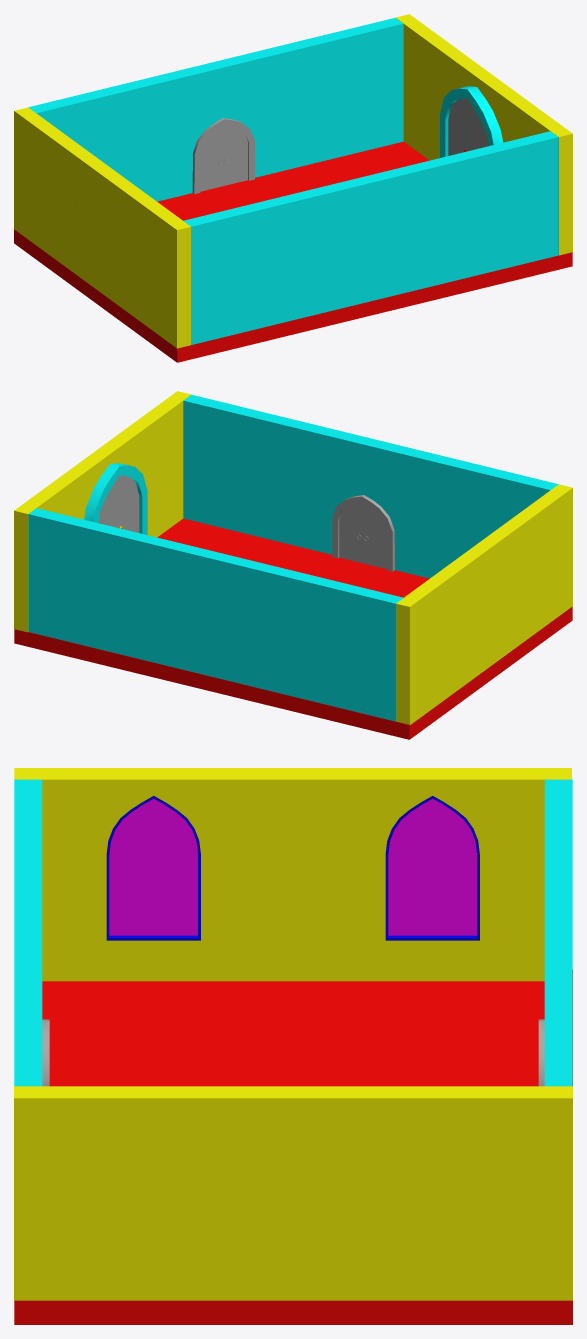
The model's file is entireroom.fbx.
The picture shows the model from 3 angles, top to bottom: view 1: azimuth 30°, elevation 25°; view 2: azimuth 150°, elevation 25°; view 3: azimuth 270°, elevation 25°; orthographic projection. The views are drawn at different scales.
Visible parts, largest first — view 1: polySurface5, polySurface7, polySurface8, polySurface1, polySurface3, door2, door1; view 2: polySurface7, polySurface5, polySurface8, polySurface1, polySurface3, door3, door1; view 3: polySurface3, polySurface8, polySurface1, polySurface5, polySurface7.
Boxes of the visible parts, x1,y1,x2,y2 form: polySurface5: [183, 131, 558, 344]; polySurface7: [28, 17, 403, 201]; polySurface8: [14, 107, 190, 348]; polySurface1: [14, 141, 572, 362]; polySurface3: [395, 14, 572, 255]; door2: [192, 118, 254, 194]; door1: [440, 86, 503, 157]; polySurface7: [28, 508, 403, 721]; polySurface5: [183, 394, 558, 578]; polySurface8: [396, 484, 572, 724]; polySurface1: [14, 518, 572, 739]; polySurface3: [14, 391, 191, 632]; door3: [332, 495, 394, 571]; door1: [84, 463, 147, 534]; polySurface3: [14, 1086, 572, 1300]; polySurface8: [14, 768, 571, 981]; polySurface1: [14, 970, 572, 1324]; polySurface5: [14, 779, 42, 1086]; polySurface7: [544, 779, 572, 1086].
Size of the model in its own units: 27.99 by 8.97 by 20.02.
